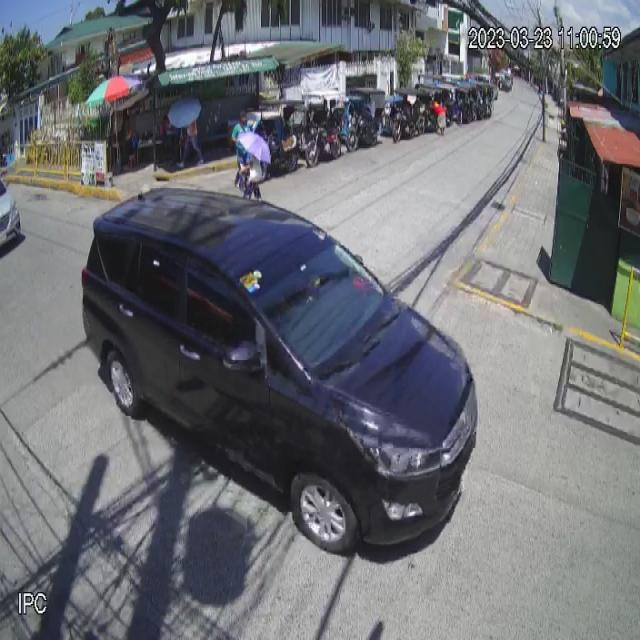Car: (80, 186, 479, 556)
